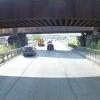Bridge: (2, 3, 92, 41)
